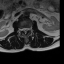CCS_normal: (24, 26, 26, 35)
LFS_normal: (28, 26, 30, 32)
LLS_normal: (26, 26, 28, 32)
RFS_normal: (20, 26, 22, 32)
RLS_normal: (22, 26, 24, 32)
